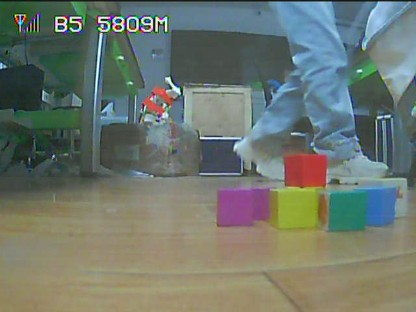b: (367, 188, 396, 226)
g: (328, 192, 367, 229)
r: (283, 156, 323, 187)
